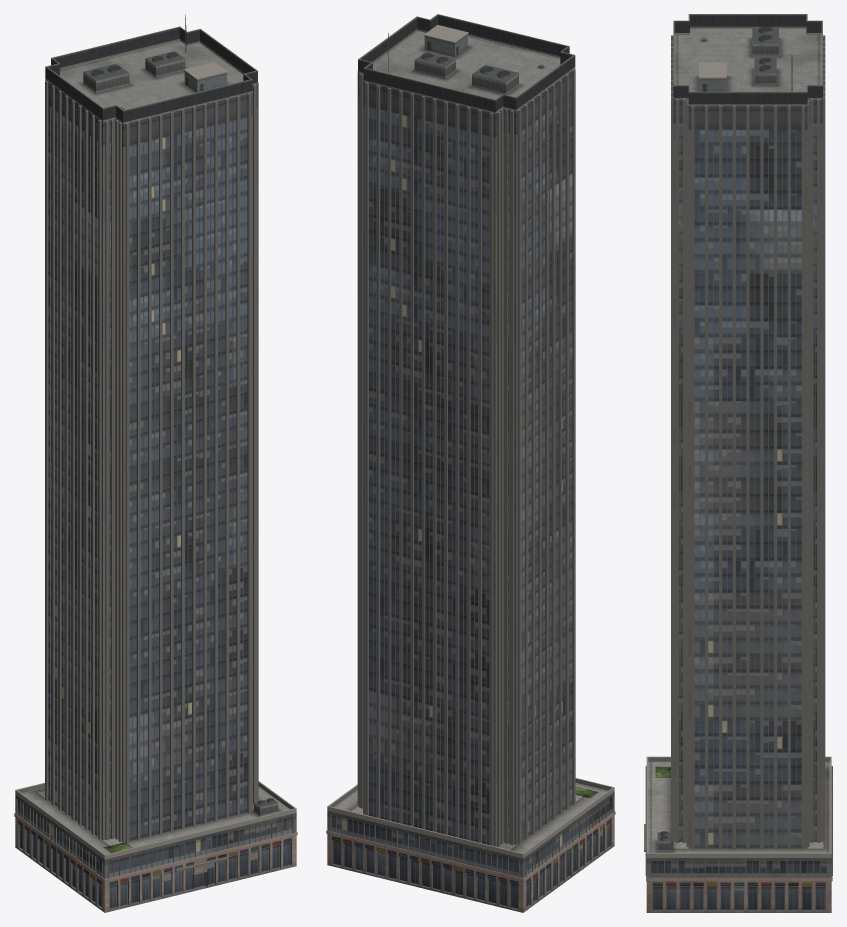
File: seattle_glasstower_c.glb
The picture shows the model from 3 angles, left to right: view 1: azimuth 30°, elevation 25°; view 2: azimuth 150°, elevation 25°; view 3: azimuth 270°, elevation 25°; orthographic projection. The views are drawn at different scales.
Visible parts, largest first — view 1: seattle_glasstower_c; view 2: seattle_glasstower_c; view 3: seattle_glasstower_c.
Boxes of the visible parts, box(x1,y1,x2,y2) form: seattle_glasstower_c: box(14, 14, 297, 912); seattle_glasstower_c: box(326, 14, 615, 912); seattle_glasstower_c: box(644, 14, 832, 912).
Bounding box in the file's own units: 52.48 × 210 × 42.85.
1 material, 1 textured.
